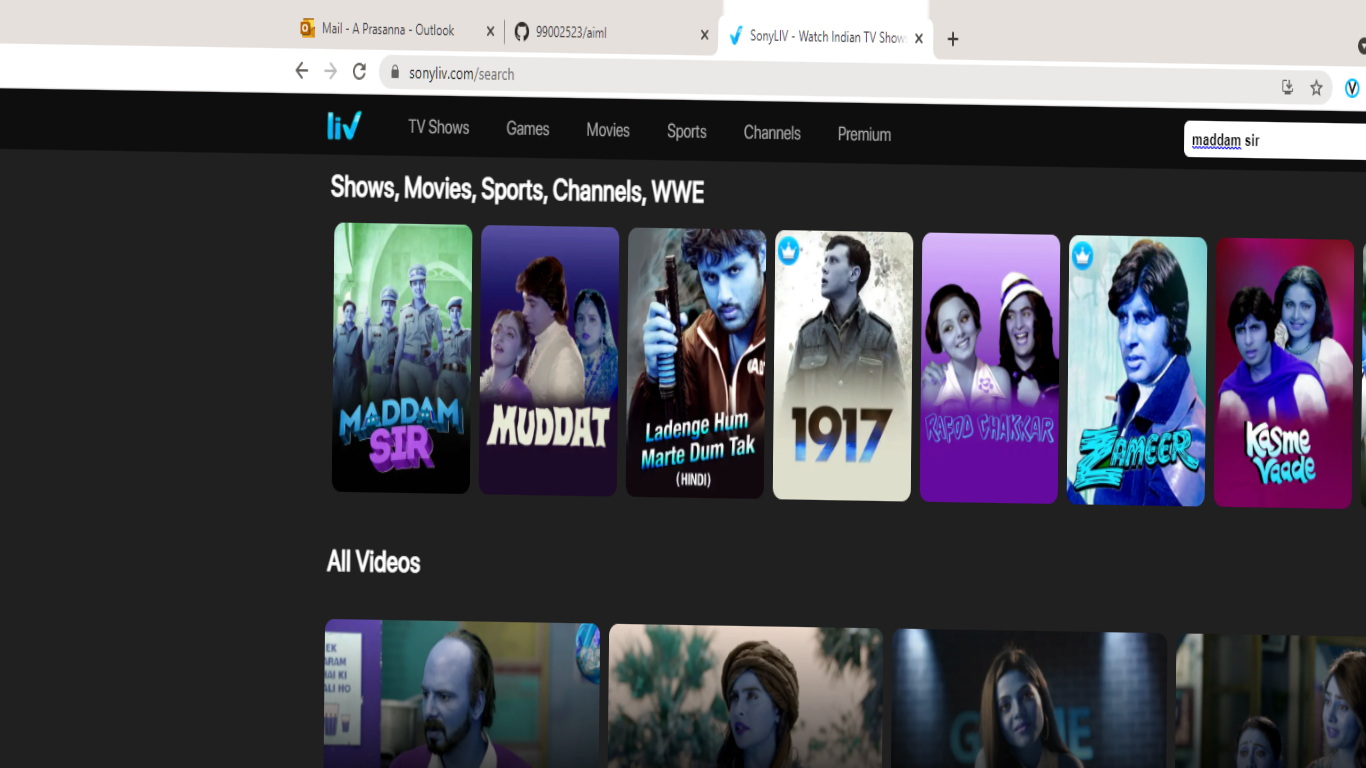resultsfound: (316, 162, 712, 226)
searchtextbox: (1178, 114, 1360, 166)
